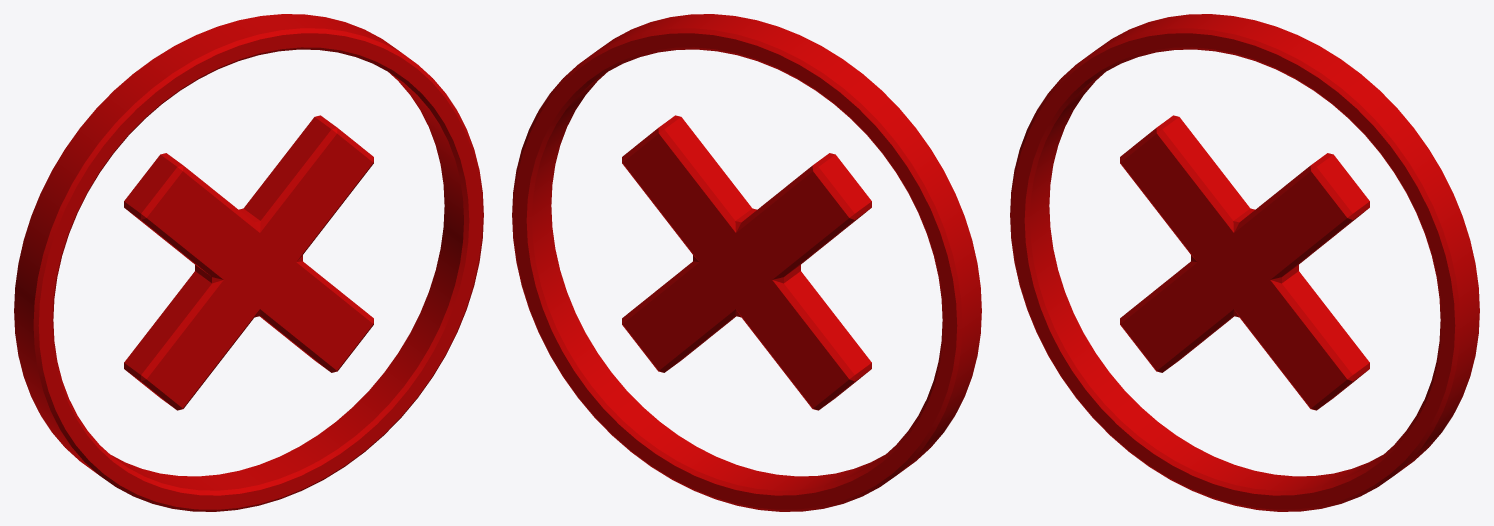
File: Icon_Failure.glb
The picture shows the model from 3 angles, left to right: view 1: azimuth 30°, elevation 25°; view 2: azimuth 150°, elevation 25°; view 3: azimuth 330°, elevation 25°; orthographic projection.
Parts seen in each view (by area): view 1: mesh_id4005550055; view 2: mesh_id4005550055; view 3: mesh_id4005550055.
Part boxes in pixels (<box>): mesh_id4005550055: <box>14,14,483,511</box>; mesh_id4005550055: <box>512,14,981,511</box>; mesh_id4005550055: <box>1010,14,1479,511</box>.
Size of the model in its own units: 4.1 by 4.1 by 0.3677.
